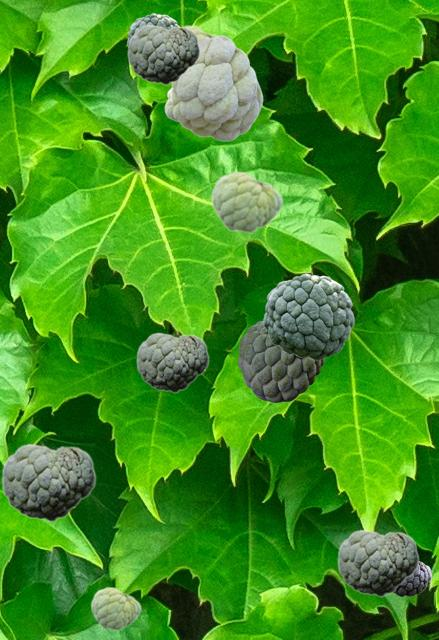atis: (164, 35, 262, 140), (263, 273, 353, 359), (1, 443, 95, 521), (238, 320, 323, 401), (337, 529, 418, 596), (210, 170, 282, 233), (136, 332, 208, 392), (127, 24, 199, 84), (90, 586, 140, 630), (127, 13, 179, 43), (394, 561, 430, 595), (181, 24, 216, 37)
